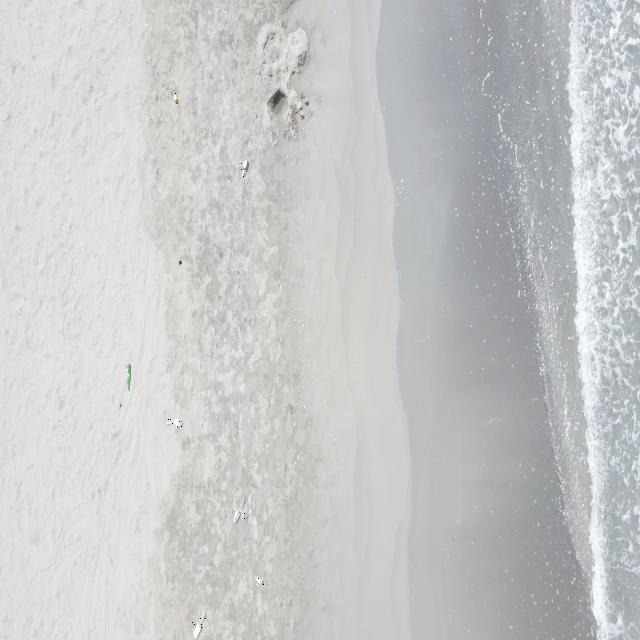glass: (192, 612, 206, 639), (230, 498, 244, 524), (125, 364, 132, 394), (166, 418, 183, 428), (240, 160, 248, 180), (254, 574, 264, 588), (173, 92, 179, 108)
